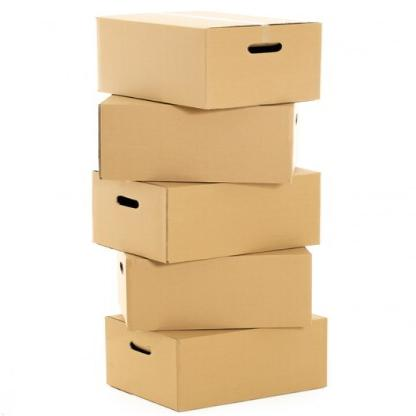box: (94, 106, 295, 182), (125, 253, 310, 334), (166, 173, 322, 266), (179, 318, 328, 414), (208, 18, 322, 108)
